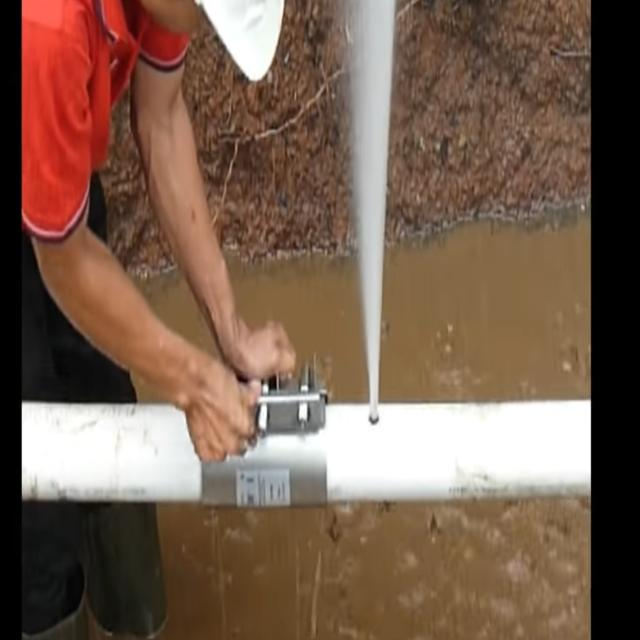leak: (350, 0, 395, 424)
